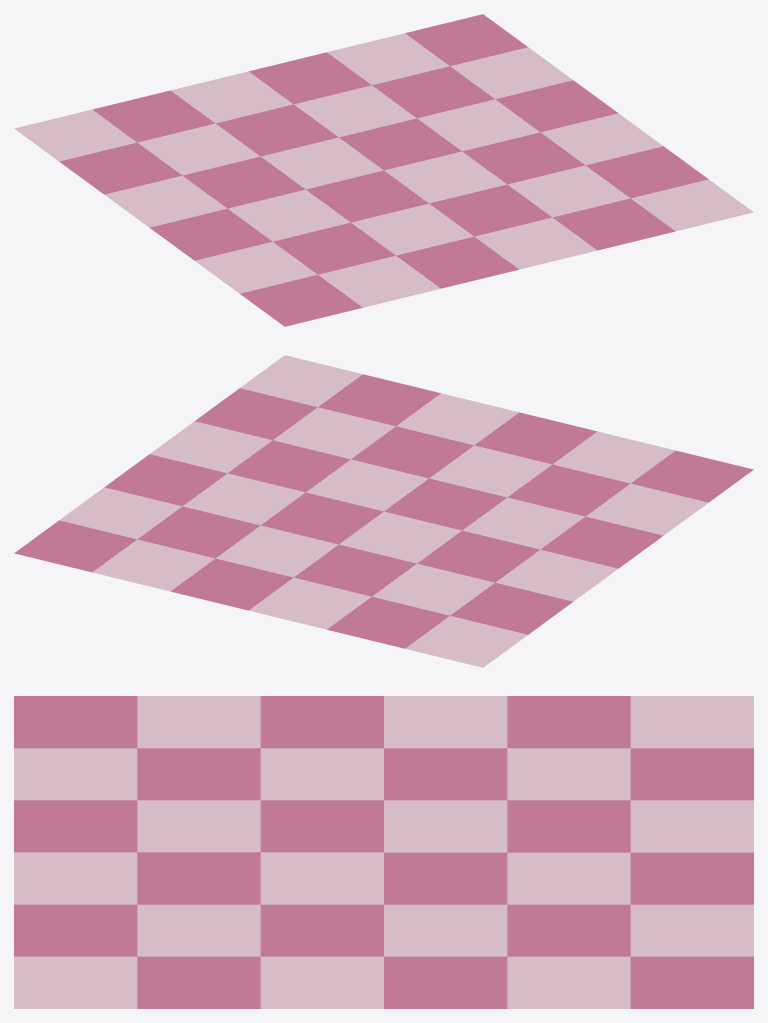
File: Floor.fbx
3 views of the same model, one above another, from view 1: azimuth 30°, elevation 25°; view 2: azimuth 150°, elevation 25°; view 3: azimuth 270°, elevation 25° (orthographic). The views are drawn at different scales.
Parts seen in each view (by area): view 1: Plane; view 2: Plane; view 3: Plane.
Part boxes in pixels (left/top/right/bottom): Plane: left=14, top=14, right=753, bottom=326; Plane: left=14, top=355, right=753, bottom=667; Plane: left=14, top=696, right=753, bottom=1008.
Size of the model in its own units: 600 by 9.78e-05 by 600.
